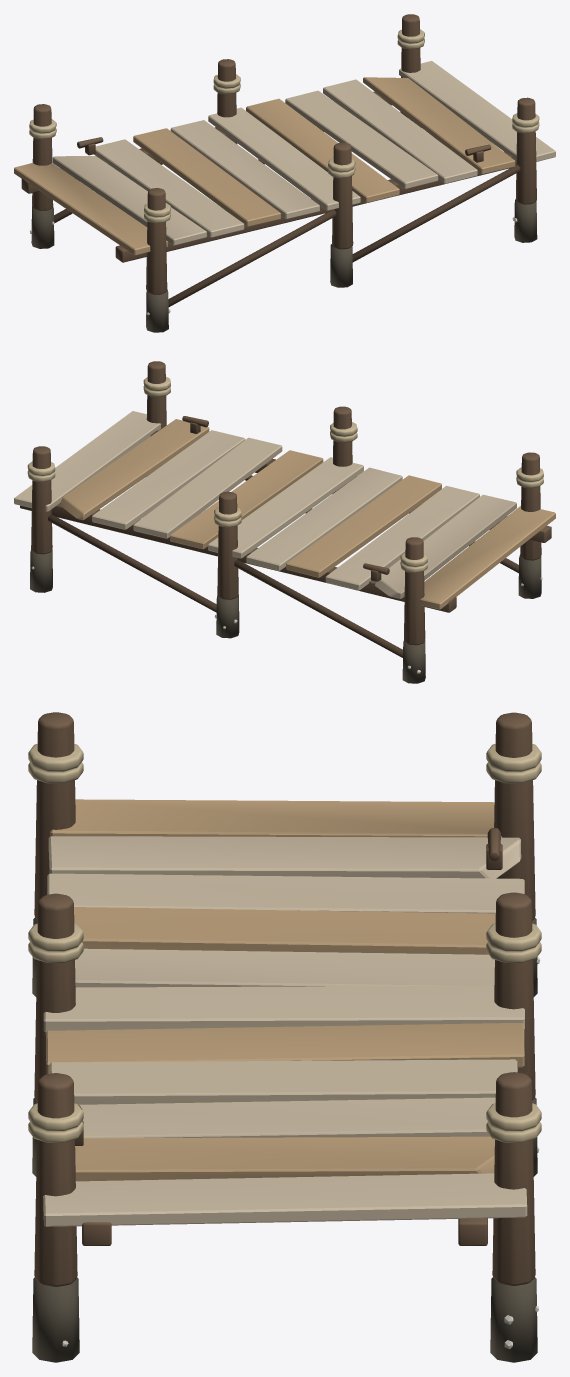
File: dock_mid.e59c9959.glb
3 renders of one model, top to bottom at view 1: azimuth 30°, elevation 25°; view 2: azimuth 150°, elevation 25°; view 3: azimuth 270°, elevation 25°, orthographic. The views are drawn at different scales.
Visible parts, largest first — view 1: dock_mid; view 2: dock_mid; view 3: dock_mid.
Part boxes in pixels (left/top/right/bottom): dock_mid: left=14, top=14, right=555, bottom=332; dock_mid: left=14, top=361, right=555, bottom=683; dock_mid: left=28, top=712, right=541, bottom=1362.
Bounding box in the file's own units: 6 × 1.85 × 3.14.
